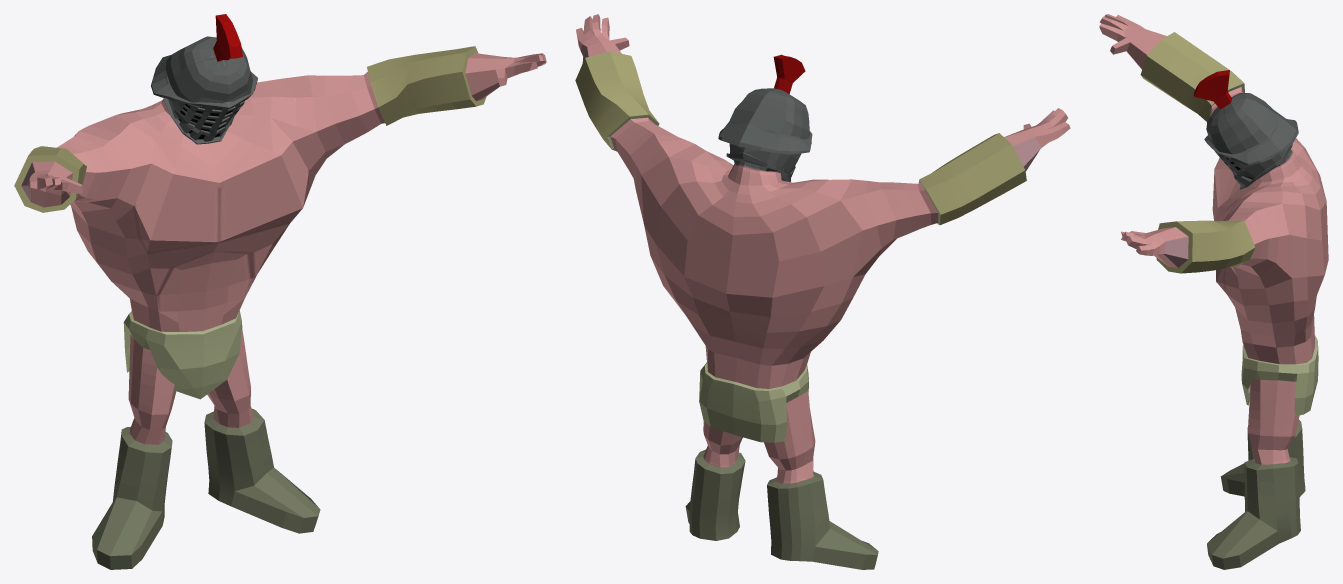
Rendered from GladiatorCelebracion_000535.obj.
3 renders of one model, left to right at view 1: azimuth 30°, elevation 25°; view 2: azimuth 150°, elevation 25°; view 3: azimuth 270°, elevation 25°, orthographic. The views are drawn at different scales.
Parts seen in each view (by area): view 1: Gadiador_Gladiador_H; view 2: Gadiador_Gladiador_H; view 3: Gadiador_Gladiador_H.
Boxes of the visible parts, <box> form: Gadiador_Gladiador_H: <box>14,14,546,569</box>; Gadiador_Gladiador_H: <box>575,14,1070,569</box>; Gadiador_Gladiador_H: <box>1099,14,1328,569</box>.
Size of the model in its own units: 7.69 by 7.38 by 3.34.
1 material, 1 textured.
